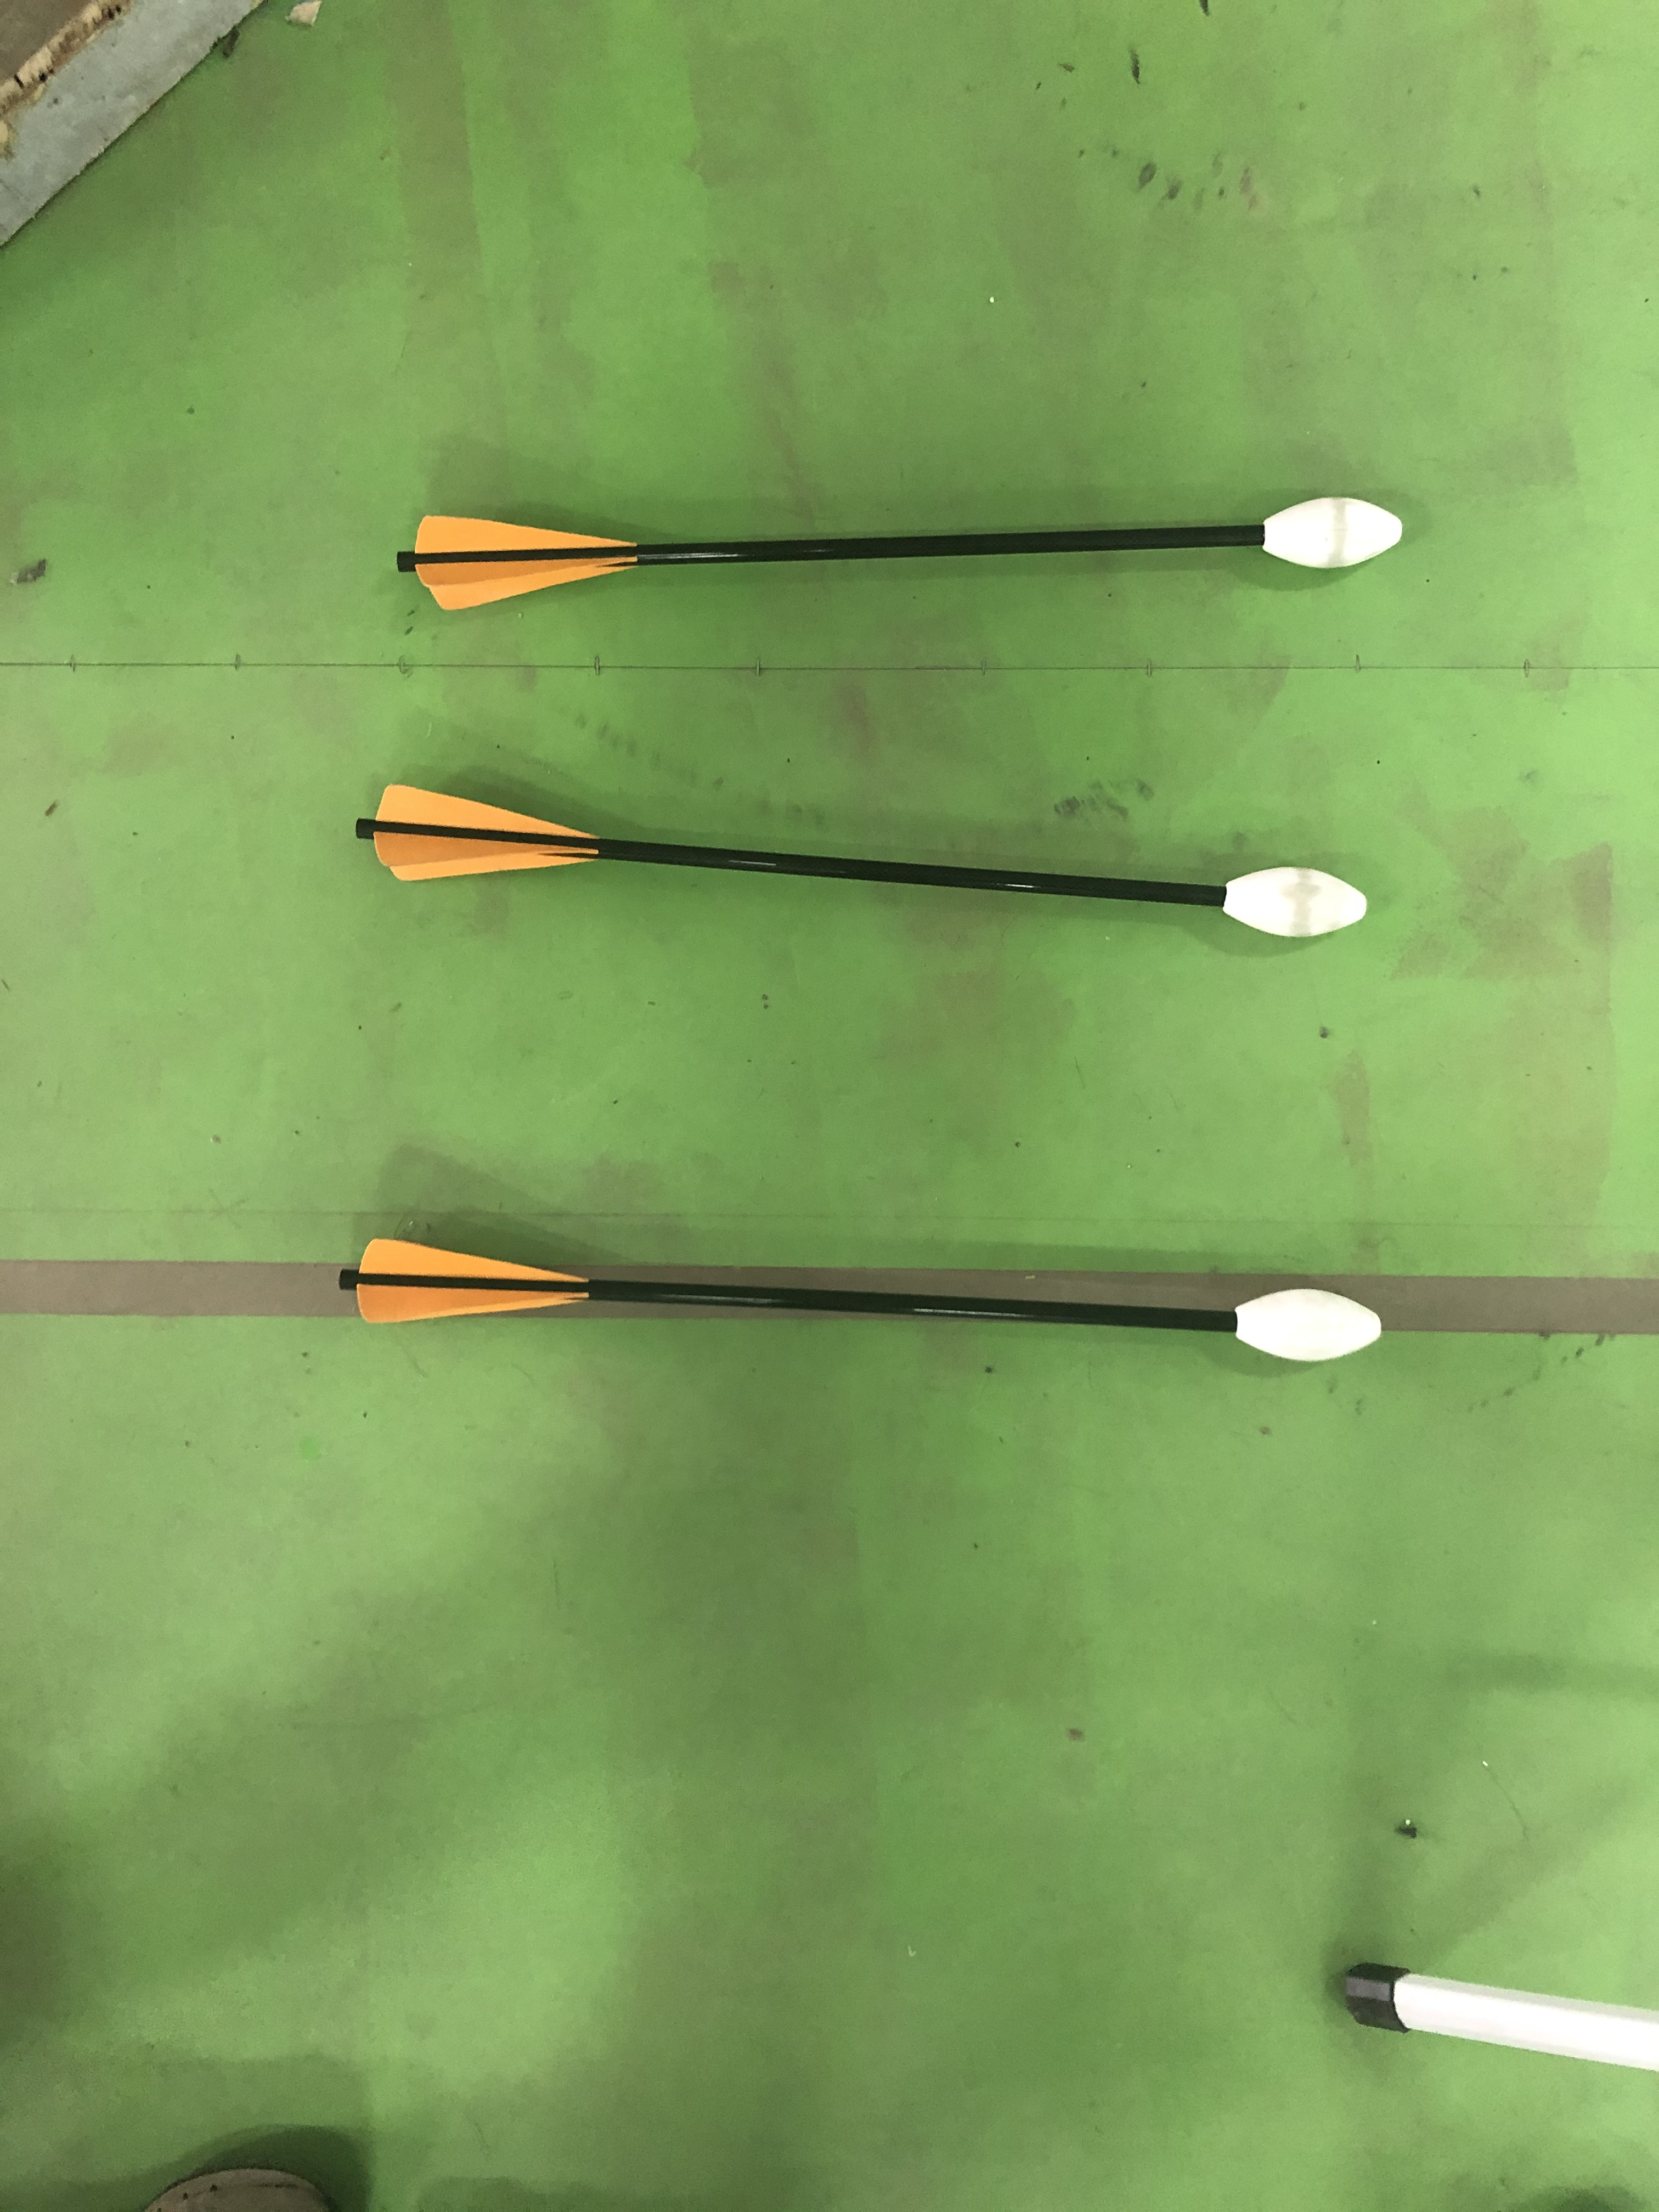arrow: (349, 747, 1378, 942), (328, 1214, 1394, 1369), (373, 470, 1410, 620)
arrowFront: (1227, 1285, 1385, 1367), (1255, 495, 1413, 571), (1218, 862, 1371, 941)
